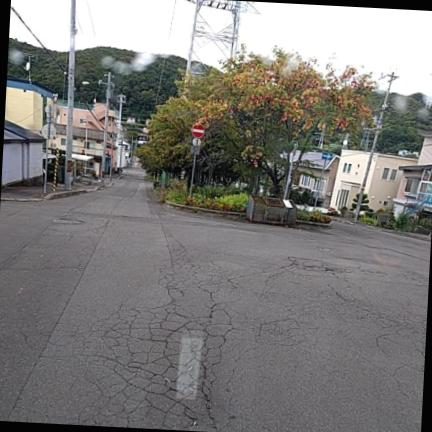Road: (0, 170, 430, 431)
